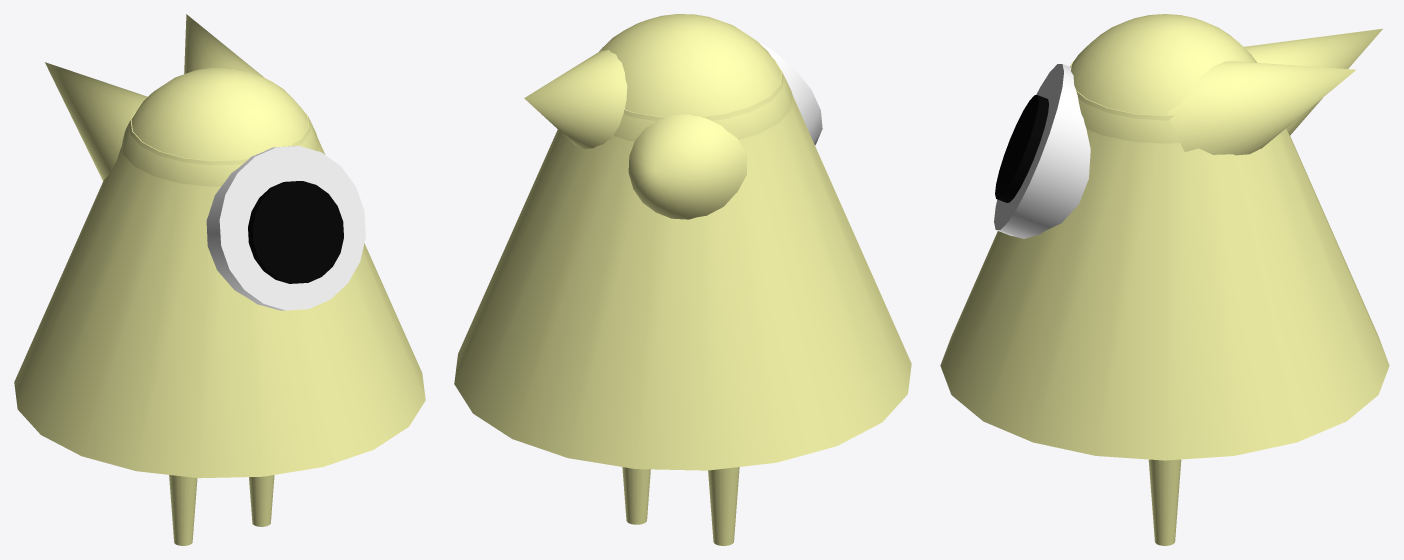
3 renders of one model, left to right at view 1: azimuth 30°, elevation 25°; view 2: azimuth 150°, elevation 25°; view 3: azimuth 270°, elevation 25°, orthographic. The views are drawn at different scales.
Visible parts, largest first — view 1: pCylinder1, pSphere1, pCylinder5, pCylinder6, pCone5, pCone4, pCylinder3, pCylinder4; view 2: pCylinder1, pSphere1, pCone5, pCone4, pCylinder3, pCylinder5, pCylinder4; view 3: pCylinder1, pSphere1, pCone4, pCylinder5, pCone5, pCylinder6, pCylinder4.
Boxes of the visible parts, bbox=[...] form: pCylinder1: bbox=[14, 111, 425, 478]; pSphere1: bbox=[122, 67, 318, 186]; pCylinder5: bbox=[206, 146, 365, 310]; pCylinder6: bbox=[248, 181, 343, 283]; pCone5: bbox=[45, 62, 147, 181]; pCone4: bbox=[184, 14, 263, 77]; pCylinder3: bbox=[169, 475, 197, 545]; pCylinder4: bbox=[249, 475, 274, 526]; pCylinder1: bbox=[454, 58, 911, 470]; pSphere1: bbox=[599, 14, 792, 141]; pCone5: bbox=[628, 114, 746, 219]; pCone4: bbox=[524, 50, 627, 148]; pCylinder3: bbox=[708, 467, 739, 545]; pCylinder5: bbox=[758, 42, 822, 145]; pCylinder4: bbox=[622, 467, 650, 524]; pCylinder1: bbox=[940, 61, 1389, 460]; pSphere1: bbox=[1070, 14, 1256, 143]; pCone4: bbox=[1168, 61, 1356, 155]; pCylinder5: bbox=[994, 64, 1090, 238]; pCone5: bbox=[1244, 28, 1382, 135]; pCylinder6: bbox=[995, 95, 1048, 202]; pCylinder4: bbox=[1148, 459, 1181, 545].
Bounding box in the file's own units: 2 × 2.43 × 2.
